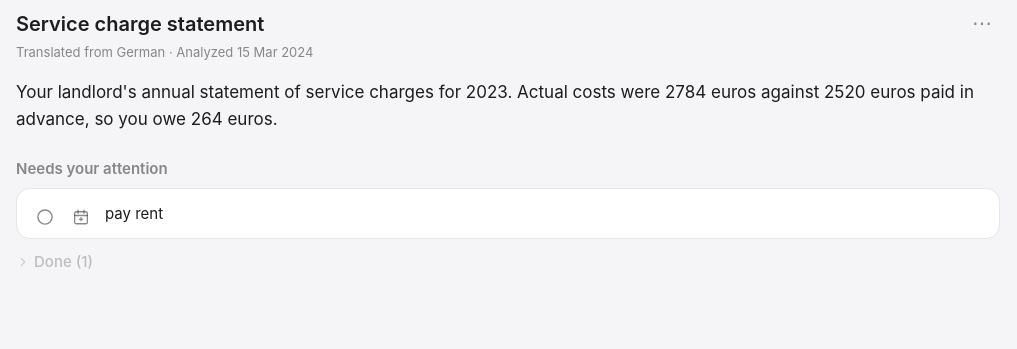
Test: ExtractionPanel Done marks (issue #144) › moves a Done item to the collapsed group — muted, no chip, no Reminder
Expected: the number of list items is 1, [17,189,999,238]
Expected: the list item "pay rent" is shown, [17,189,999,238]
Click the button "Done (1)". click: (54, 262)
box: [16,251,93,273]
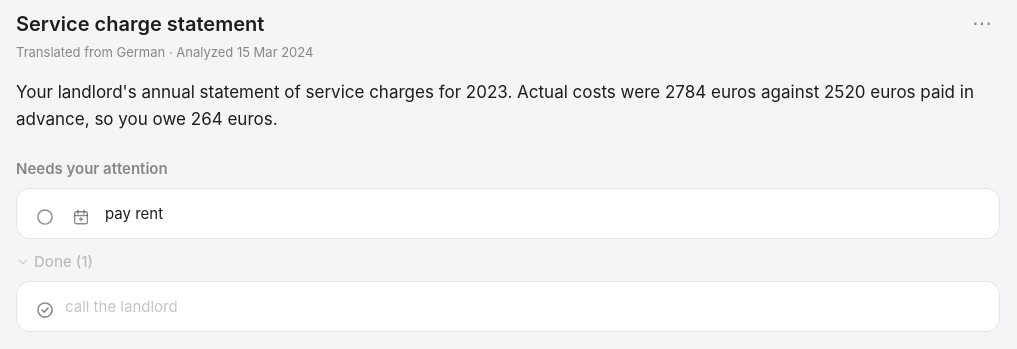
Now the checkbox named "Mark not done" is shown, box [29,294,61,326]
